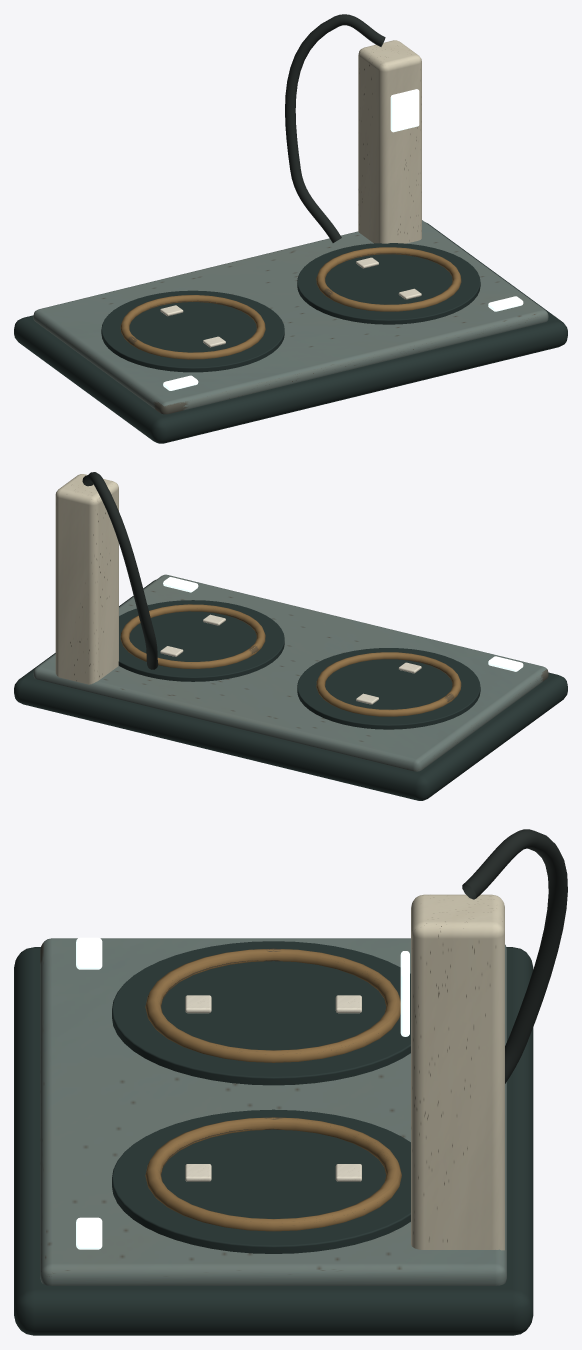
The model's file is prop_charging_dock.glb.
3 renders of one model, top to bottom at view 1: azimuth 30°, elevation 25°; view 2: azimuth 150°, elevation 25°; view 3: azimuth 270°, elevation 25°, orthographic. The views are drawn at different scales.
Visible parts, largest first — view 1: prop_charging_dock_dark, Dock tread, Dock bollard, prop_charging_dock_brass, Dock cable, prop_charging_dock_eye, prop_charging_dock_ivory_light; view 2: prop_charging_dock_dark, Dock tread, Dock bollard, prop_charging_dock_brass, Dock cable, prop_charging_dock_eye, prop_charging_dock_ivory_light; view 3: prop_charging_dock_dark, Dock tread, Dock bollard, prop_charging_dock_brass, Dock cable, prop_charging_dock_eye, prop_charging_dock_ivory_light.
Boxes of the visible parts, x1=… form: prop_charging_dock_dark: x1=14, y1=222, x2=567, y2=443; Dock tread: x1=33, y1=220, x2=548, y2=414; Dock bollard: x1=358, y1=40, x2=421, y2=243; prop_charging_dock_brass: x1=120, y1=247, x2=461, y2=359; Dock cable: x1=285, y1=14, x2=385, y2=242; prop_charging_dock_eye: x1=163, y1=89, x2=523, y2=390; prop_charging_dock_ivory_light: x1=160, y1=257, x2=421, y2=347; prop_charging_dock_dark: x1=14, y1=580, x2=567, y2=800; Dock tread: x1=33, y1=574, x2=548, y2=771; Dock bollard: x1=55, y1=474, x2=118, y2=684; prop_charging_dock_brass: x1=120, y1=604, x2=461, y2=716; Dock cable: x1=82, y1=472, x2=158, y2=669; prop_charging_dock_eye: x1=163, y1=577, x2=523, y2=671; prop_charging_dock_ivory_light: x1=160, y1=614, x2=421, y2=704; prop_charging_dock_dark: x1=14, y1=941, x2=533, y2=1335; Dock tread: x1=40, y1=938, x2=506, y2=1285; Dock bollard: x1=411, y1=894, x2=504, y2=1250; prop_charging_dock_brass: x1=145, y1=948, x2=401, y2=1231; Dock cable: x1=462, y1=829, x2=567, y2=1083; prop_charging_dock_eye: x1=76, y1=937, x2=409, y2=1249; prop_charging_dock_ivory_light: x1=185, y1=995, x2=361, y2=1181.
Bounding box in the file's own units: 2.25 × 1.29 × 1.47.
7 materials, 4 textured.
